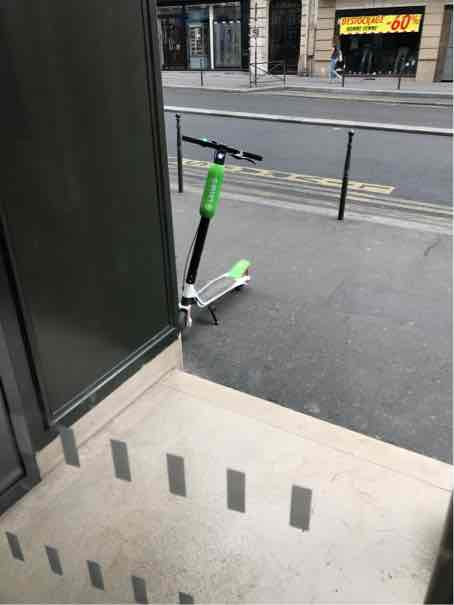scooter: (176, 127, 261, 323)
